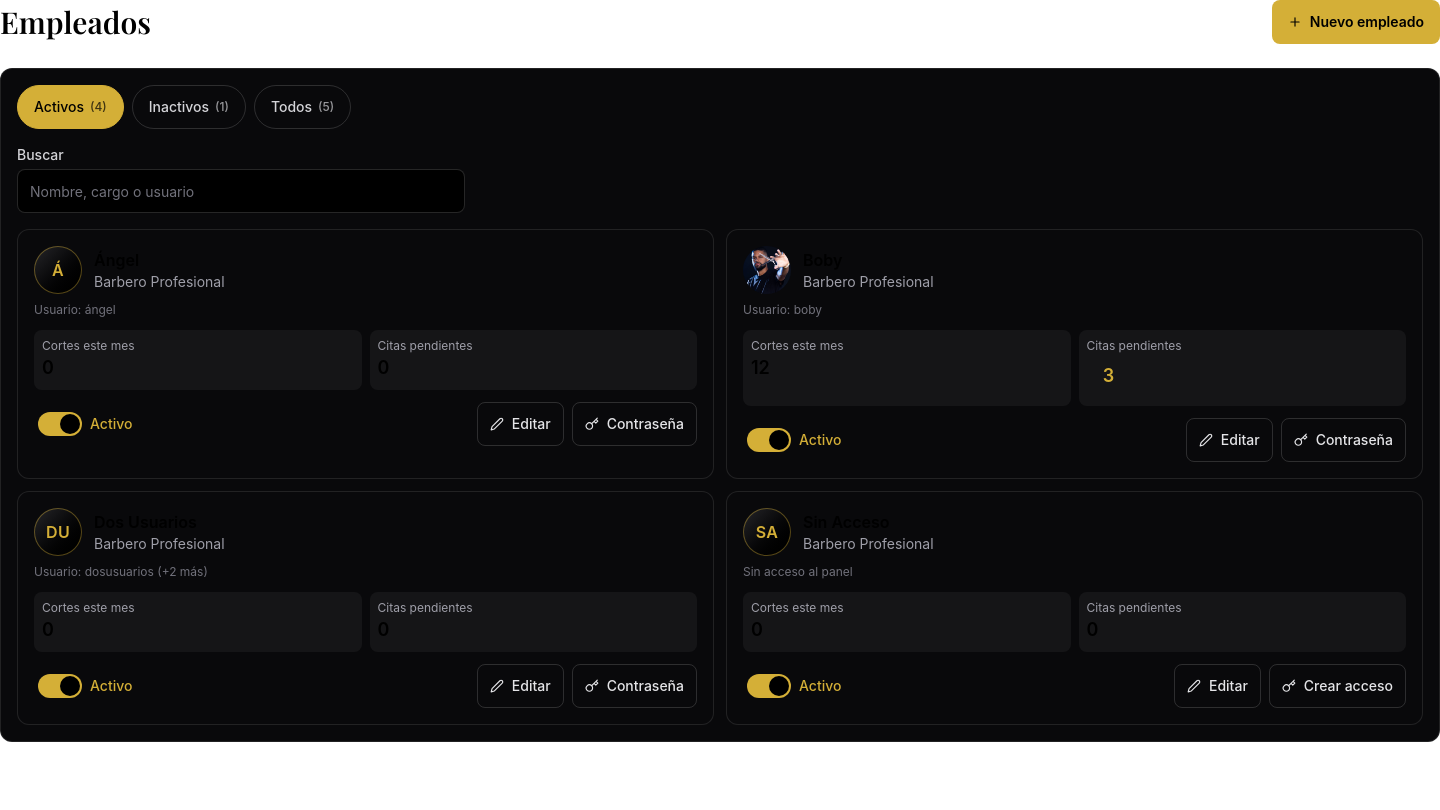
Scenario: Empleados: crear › USUARIO_DUPLICADO se muestra en el campo usuario (por código), con foco, y el panel sigue abierto
Click the button "Nuevo empleado" at (1356, 22), box [1272,0,1439,44]
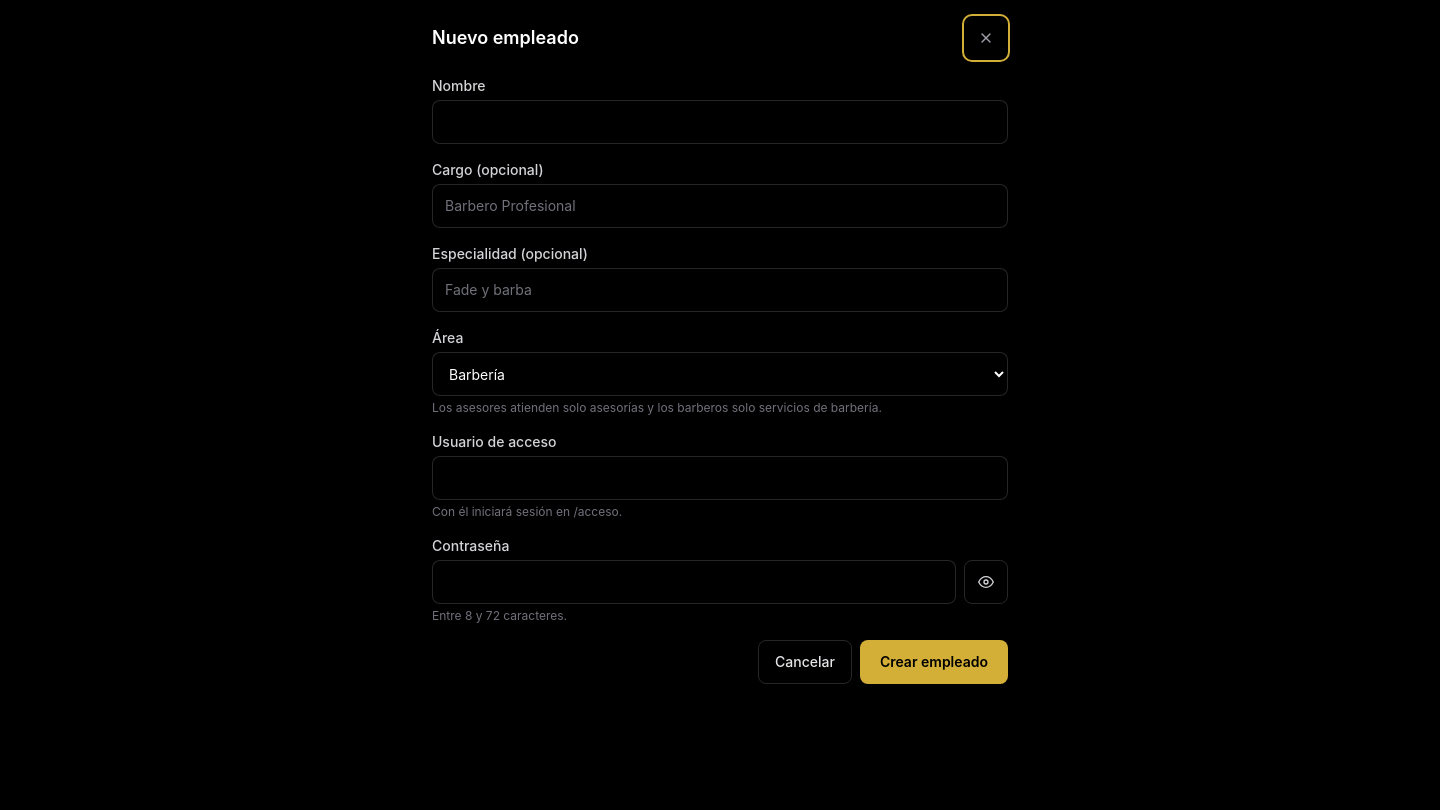
Type "Nuevo" into the field labelled "Nombre" at (720, 122), box [432,100,1008,144]
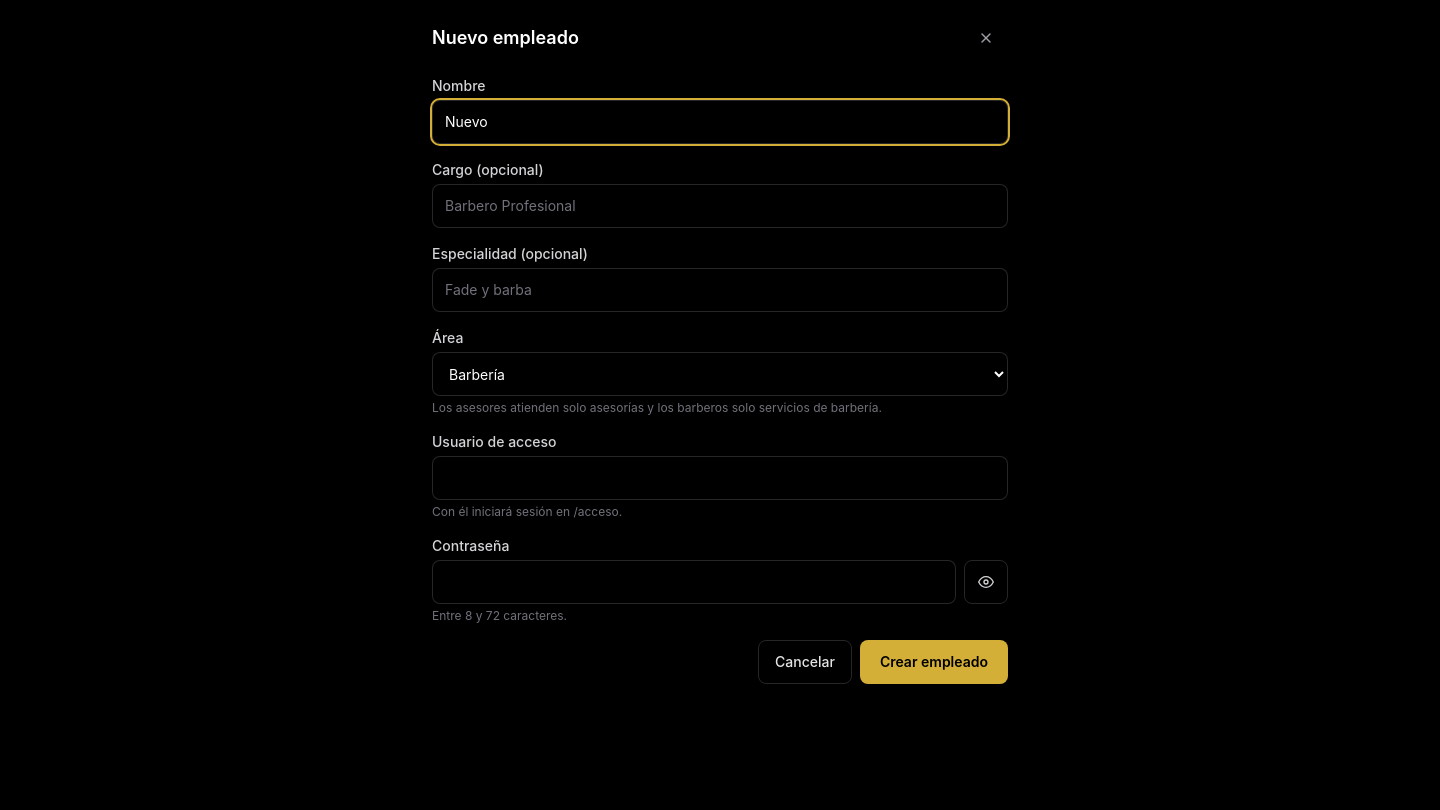
Type "boby" into the field labelled "Usuario de acceso" at (720, 478), box [432,456,1008,500]
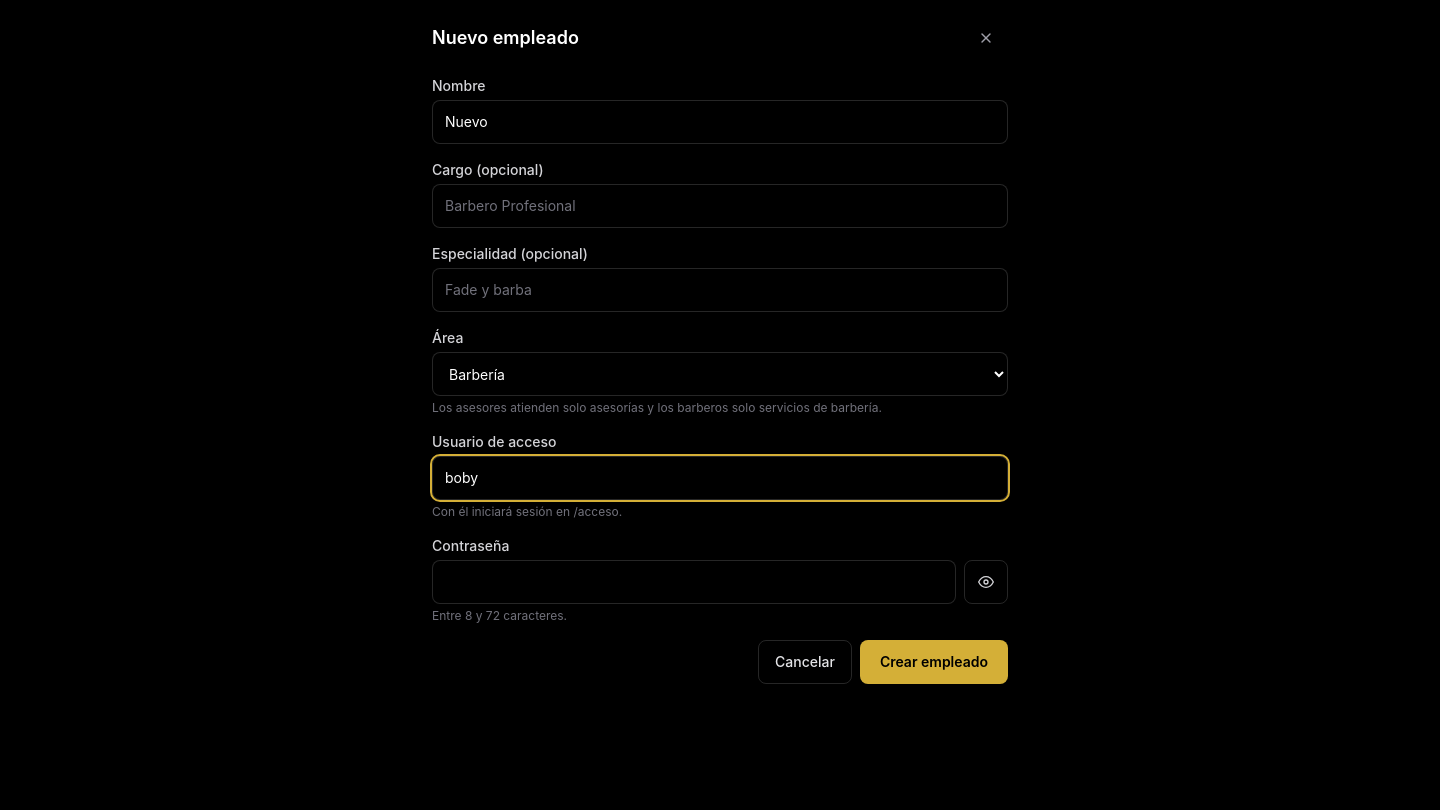
Type "clave-segura-1" into the password field labelled "Contraseña" at (694, 582), box [432,560,956,604]
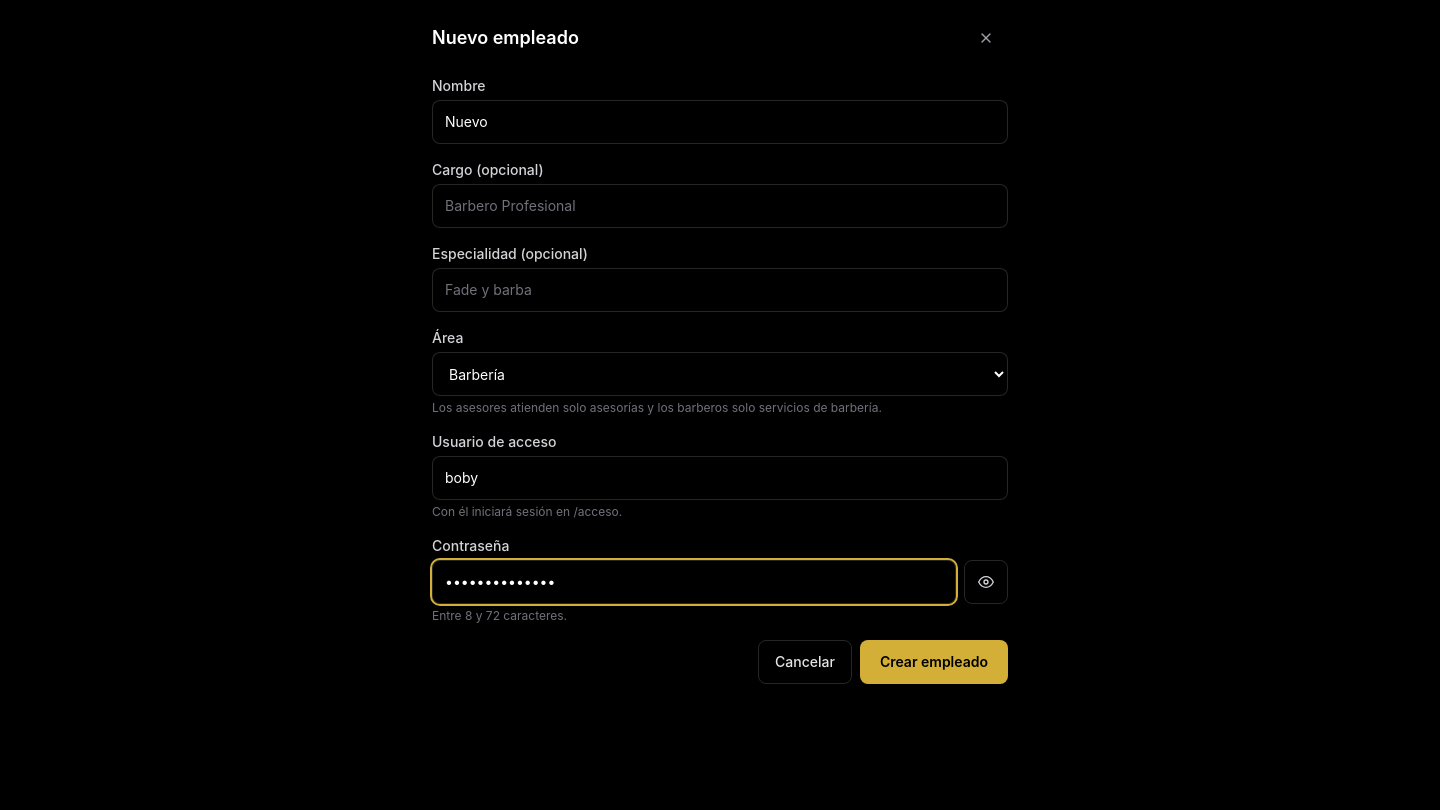
Click the button "Crear empleado" at (934, 662), box [860,640,1008,684]
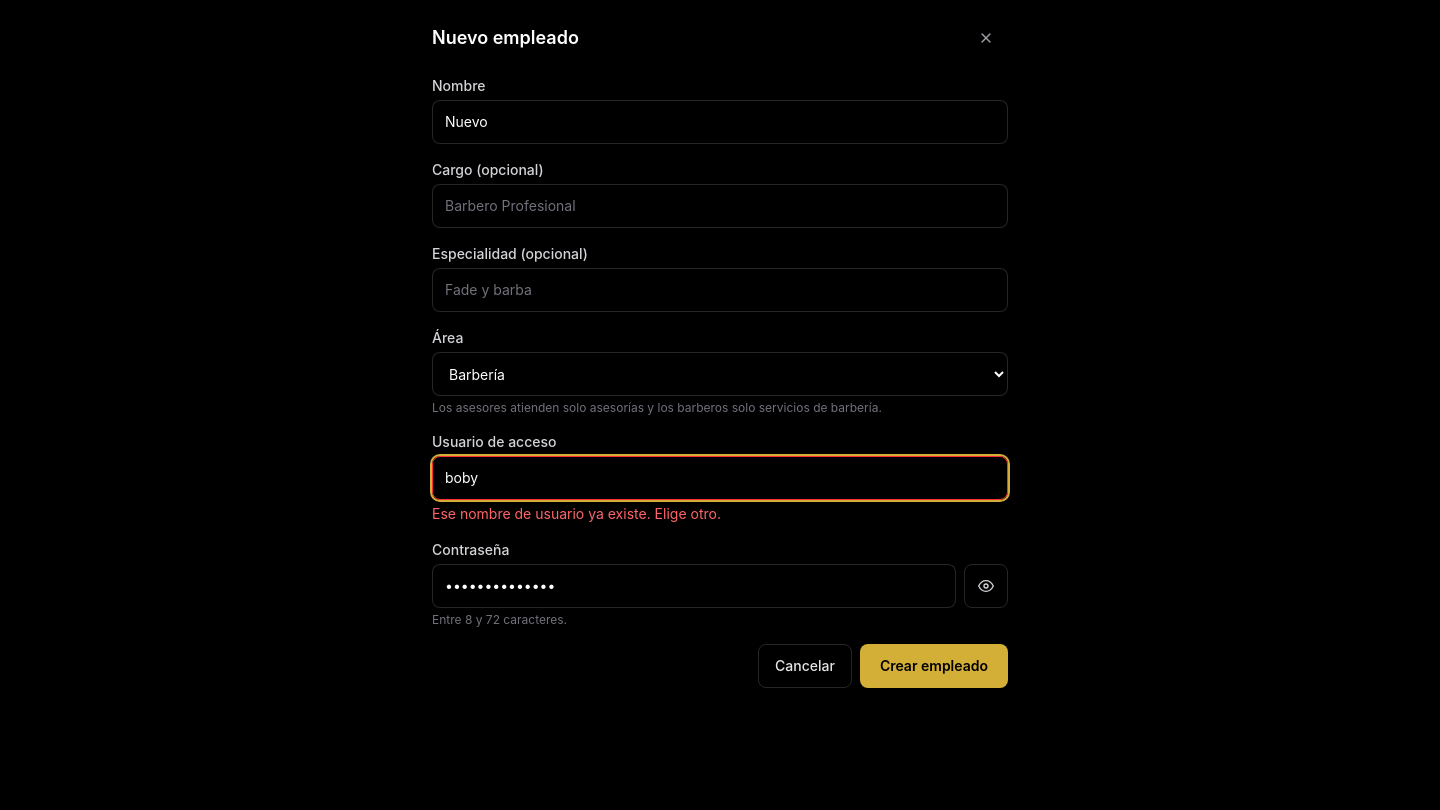
Expected: the button "Crear empleado" is enabled, [860,644,1008,688]
Expected: the text "Ese nombre de usuario ya existe. Elige otro." is shown, [432,505,721,522]
